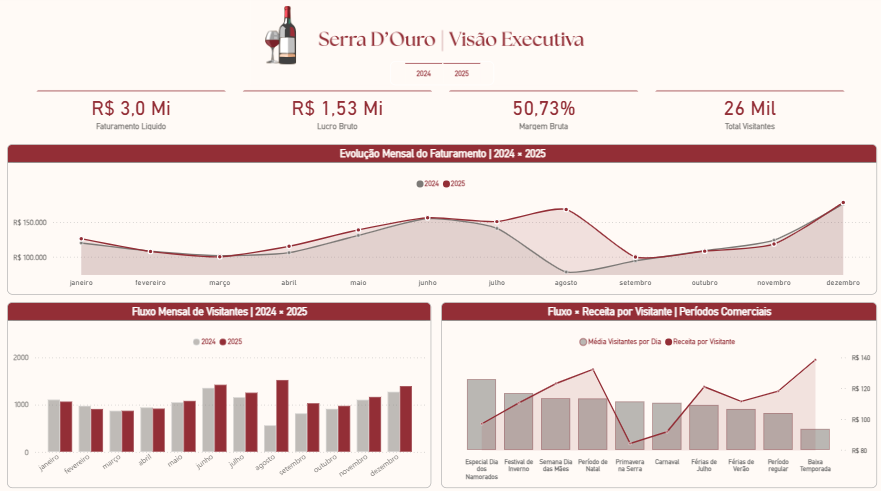

This screenshot's page, from the dashboard's own definition file:
{"tool":"powerbi","page":{"name":"Visão Executiva","canvas":[1280,720],"ordinal":0},"visuals":[{"type":"image","box":[36,0,1177.1,129.8],"z":0},{"type":"cardVisual","fields":{"Data":["Medidas.Faturamento Liquido","Medidas.Lucro Bruto","Medidas.Margem Bruta %","Medidas.Total Visitantes"]},"box":[31.7,112.3,1216.8,116.6],"z":1000},{"type":"lineChart","title":"Evolução Mensal do Faturamento | 2024 × 2025","fields":{"Category":["Calendario.Mes"],"Y":["Medidas.Faturamento Liquido"],"Series":["Calendario.Ano"]},"box":[14.3,213.9,1253.1,216.6],"z":2000},{"type":"clusteredColumnChart","title":"Fluxo Mensal de Visitantes | 2024 × 2025","fields":{"Category":["Calendario.Mes"],"Y":["Medidas.Total Visitantes"],"Series":["Calendario.Ano"]},"box":[14.4,442.1,610.6,267.8],"z":3000},{"type":"lineClusteredColumnComboChart","title":"Fluxo × Receita por Visitante | Períodos Comerciais","fields":{"Y2":["Medidas.Receita por Visitante"],"Category":["Calendario.Periodo_Comercial"],"Y":["Medidas.Média Visitantes por Dia"]},"box":[639.4,442.1,627.8,267.8],"z":4000},{"type":"slicer","fields":{"Values":["Calendario.Ano"]},"box":[565.9,95,149.8,34.6],"z":5000}]}

Visuals, with their boxes in screenshot pixels (x1, y1, x2, y2), scaled from the page's 1280x720 canvas onto the 881x491 screenshot:
image: {"x1": 25, "y1": 0, "x2": 835, "y2": 89}
cardVisual - Medidas.Faturamento Liquido x Medidas.Lucro Bruto: {"x1": 22, "y1": 77, "x2": 859, "y2": 156}
"Evolução Mensal do Faturamento | 2024 × 2025" lineChart: {"x1": 10, "y1": 146, "x2": 872, "y2": 294}
"Fluxo Mensal de Visitantes | 2024 × 2025" clusteredColumnChart: {"x1": 10, "y1": 301, "x2": 430, "y2": 484}
"Fluxo × Receita por Visitante | Períodos Comerciais" lineClusteredColumnComboChart: {"x1": 440, "y1": 301, "x2": 872, "y2": 484}
slicer - Calendario.Ano: {"x1": 389, "y1": 65, "x2": 493, "y2": 88}
